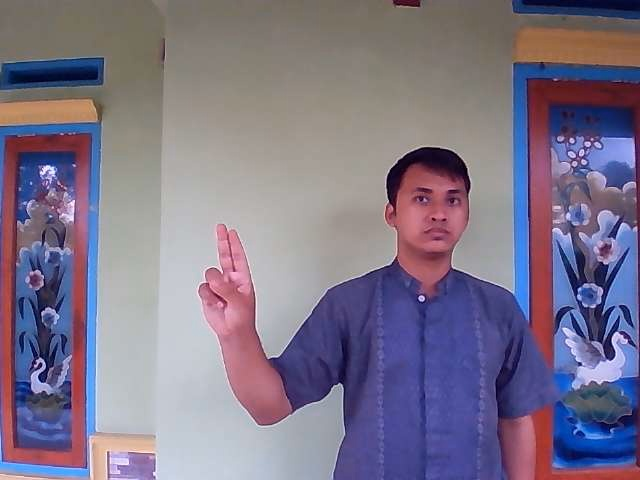U: (193, 221, 259, 342)
